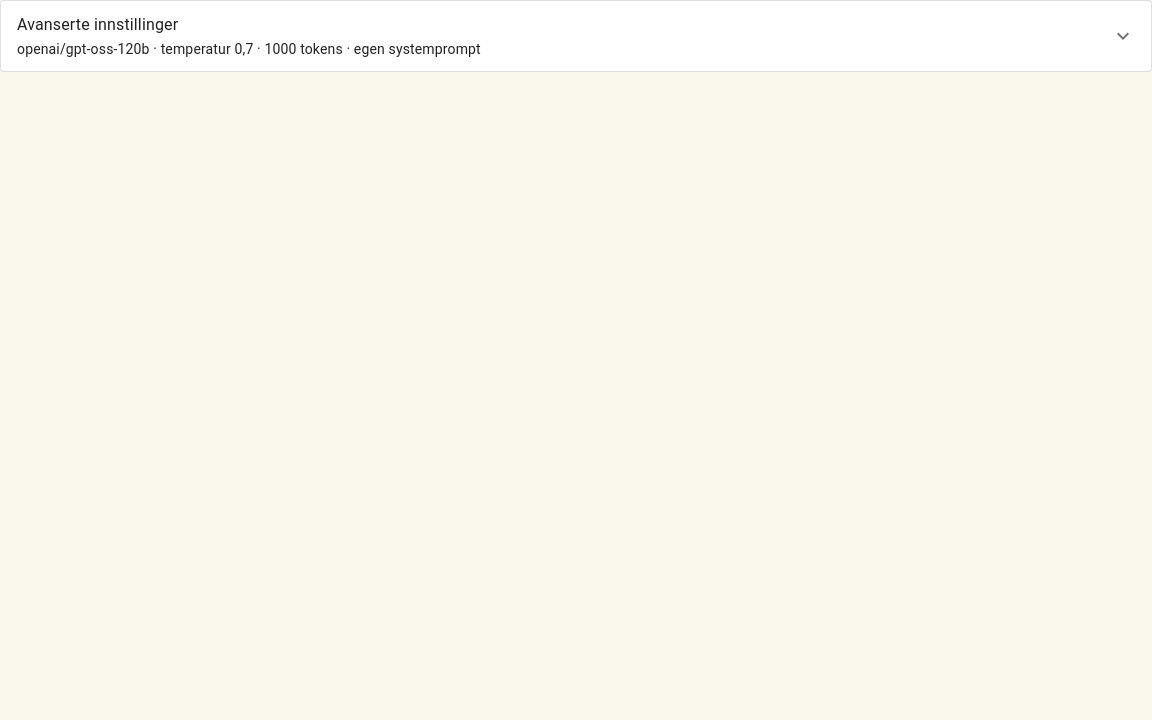
it: AdvancedSettingsFields › keeps a hand-written prompt when the switch is turned off and on again
Click the button "Avanserte innstillinger" at (98, 24), box x1=1 y1=1 x2=1151 y2=71
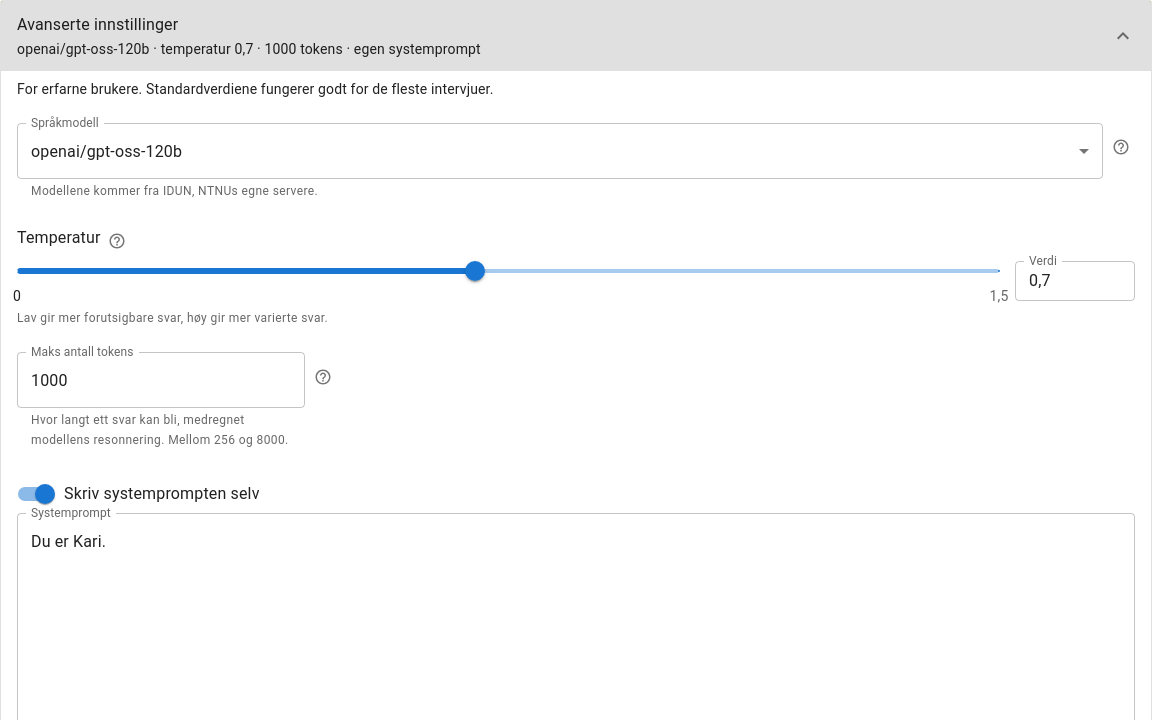
Click the switch labelled "Skriv systemprompten selv" at (139, 494), box x1=18 y1=484 x2=260 y2=504
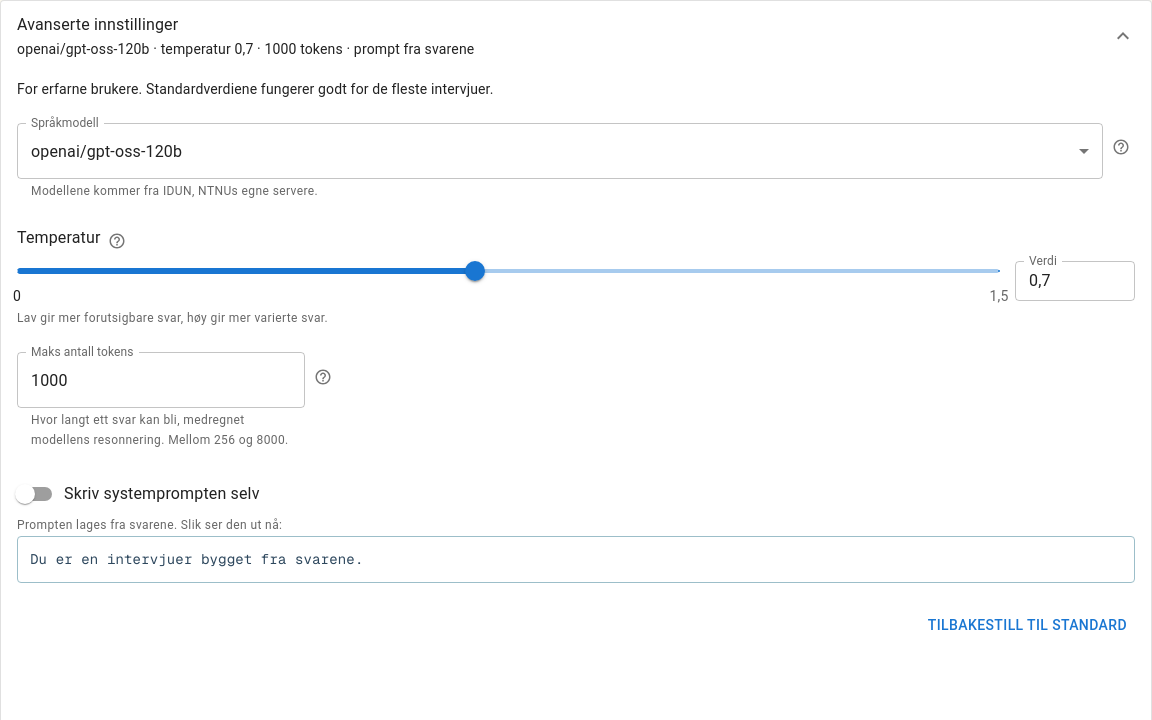
Check: the text "Du er en intervjuer bygget fra svarene." is shown, box x1=17 y1=536 x2=1135 y2=583
Click the switch labelled "Skriv systemprompten selv" at (137, 494), box x1=15 y1=484 x2=260 y2=504
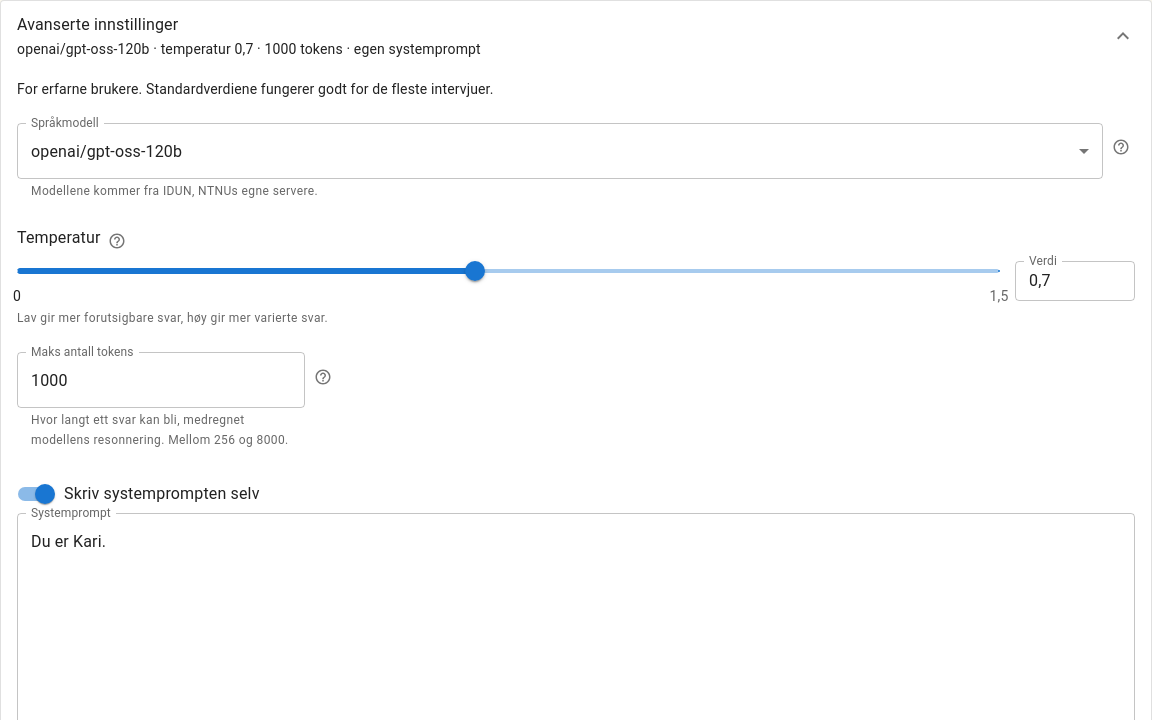
Check: the text box labelled "Systemprompt" holds "Du er Kari.", box x1=31 y1=530 x2=1121 y2=714
